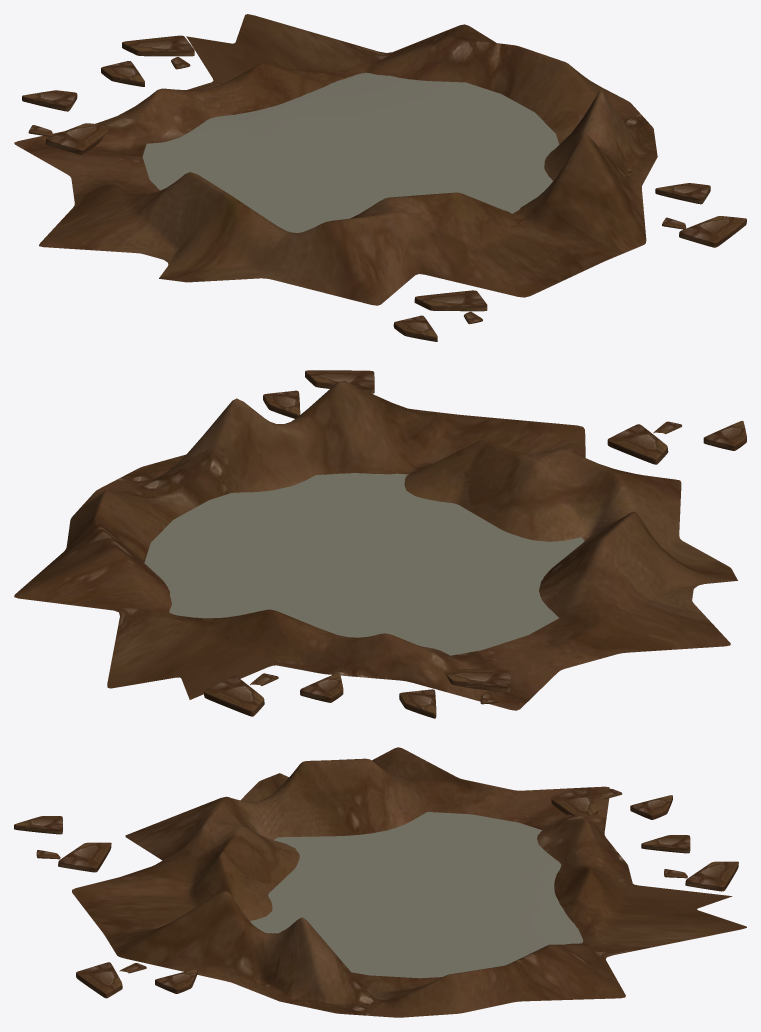
The model's file is crack (1).fbx.
The picture shows the model from 3 angles, top to bottom: view 1: azimuth 30°, elevation 25°; view 2: azimuth 150°, elevation 25°; view 3: azimuth 270°, elevation 25°; orthographic projection. The views are drawn at different scales.
Visible parts, largest first — view 1: polySurface222, pDisc3; view 2: polySurface222, pDisc3; view 3: polySurface222, pDisc3.
Boxes of the visible parts, <box> form: polySurface222: <box>14,14,746,341</box>; pDisc3: <box>142,72,559,232</box>; polySurface222: <box>14,370,746,718</box>; pDisc3: <box>144,473,584,655</box>; polySurface222: <box>14,747,746,1017</box>; pDisc3: <box>250,812,583,978</box>.
Size of the model in its own units: 28.46 by 3.91 by 32.6.
Materials: 3 (2 with a texture image).
